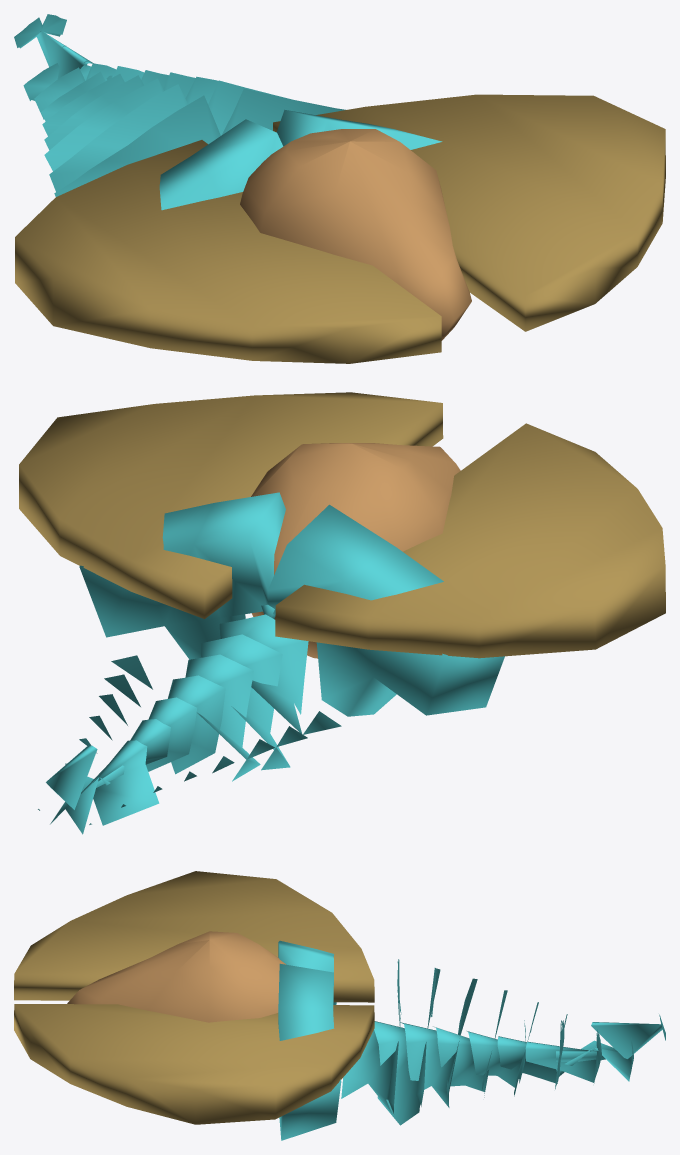
The model's file is ship_27.gltf.
3 views of the same model, one above another, from view 1: azimuth 30°, elevation 25°; view 2: azimuth 150°, elevation 25°; view 3: azimuth 270°, elevation 25° (orthographic). The views are drawn at different scales.
Parts seen in each view (by area): view 1: gtlf; view 2: gtlf; view 3: gtlf.
Boxes of the visible parts, bbox=[...] form: gtlf: bbox=[14, 14, 665, 363]; gtlf: bbox=[19, 392, 665, 834]; gtlf: bbox=[14, 871, 665, 1140].
Bounding box in the file's own units: 1.76 × 0.624 × 2.22.
